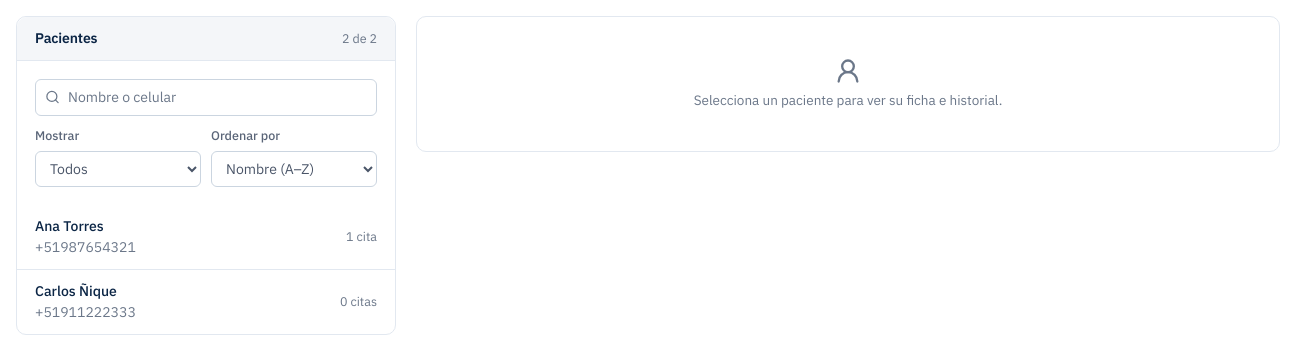
Test: Módulo de Pacientes › encuentra el celular aunque se escriba con espacios
The width and height of the screenshot is (1297, 352).
In the search field with test id "input-buscar-paciente": (206, 97) [35,79,377,116], type "987 654 321"
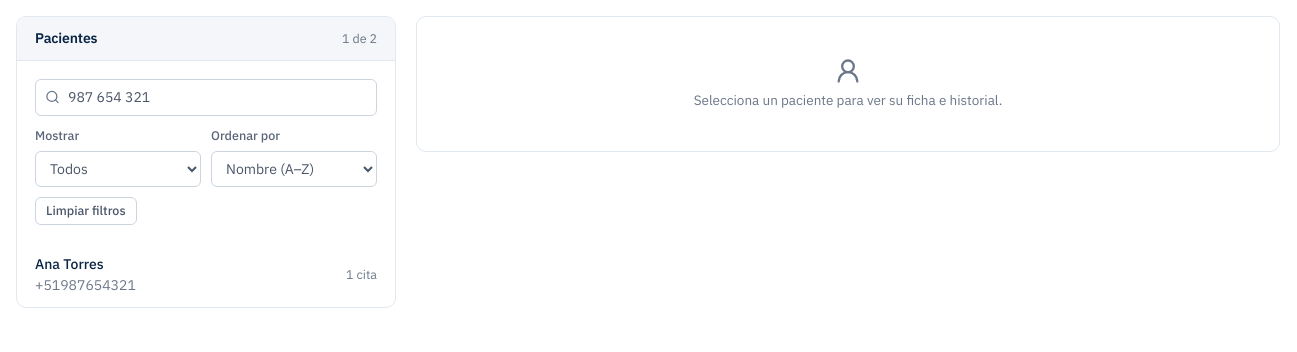
Expected: the text "Ana Torres" is shown, [35,254,104,272]
Expected: the number of buttons with test id "paciente-item" is 1, [17,242,395,306]
